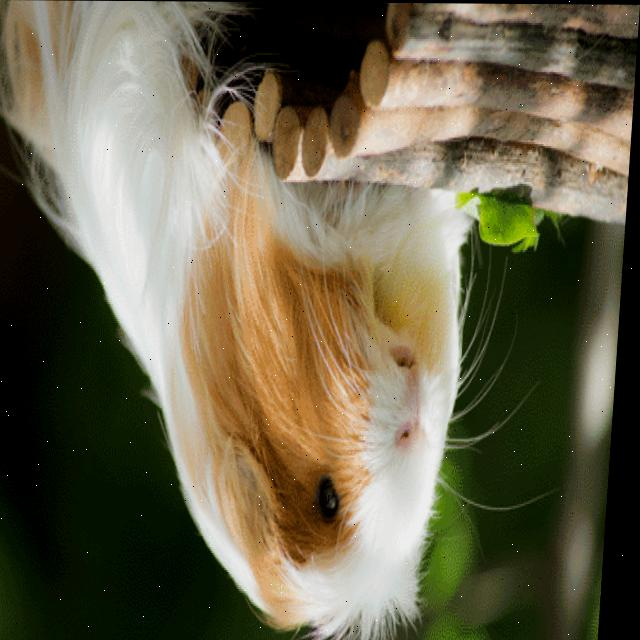guinea pig: (38, 7, 483, 630)
